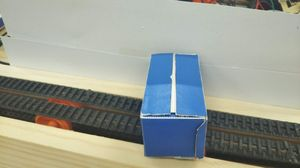box3: (139, 51, 208, 161)
